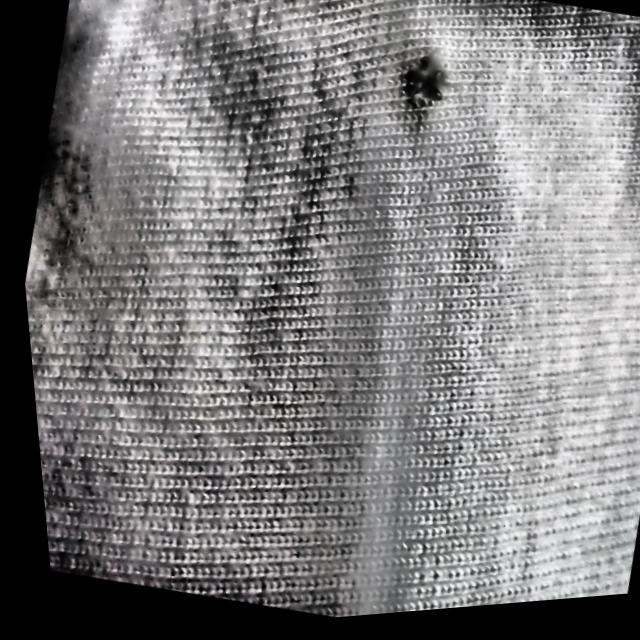Hole: (386, 42, 461, 134)
